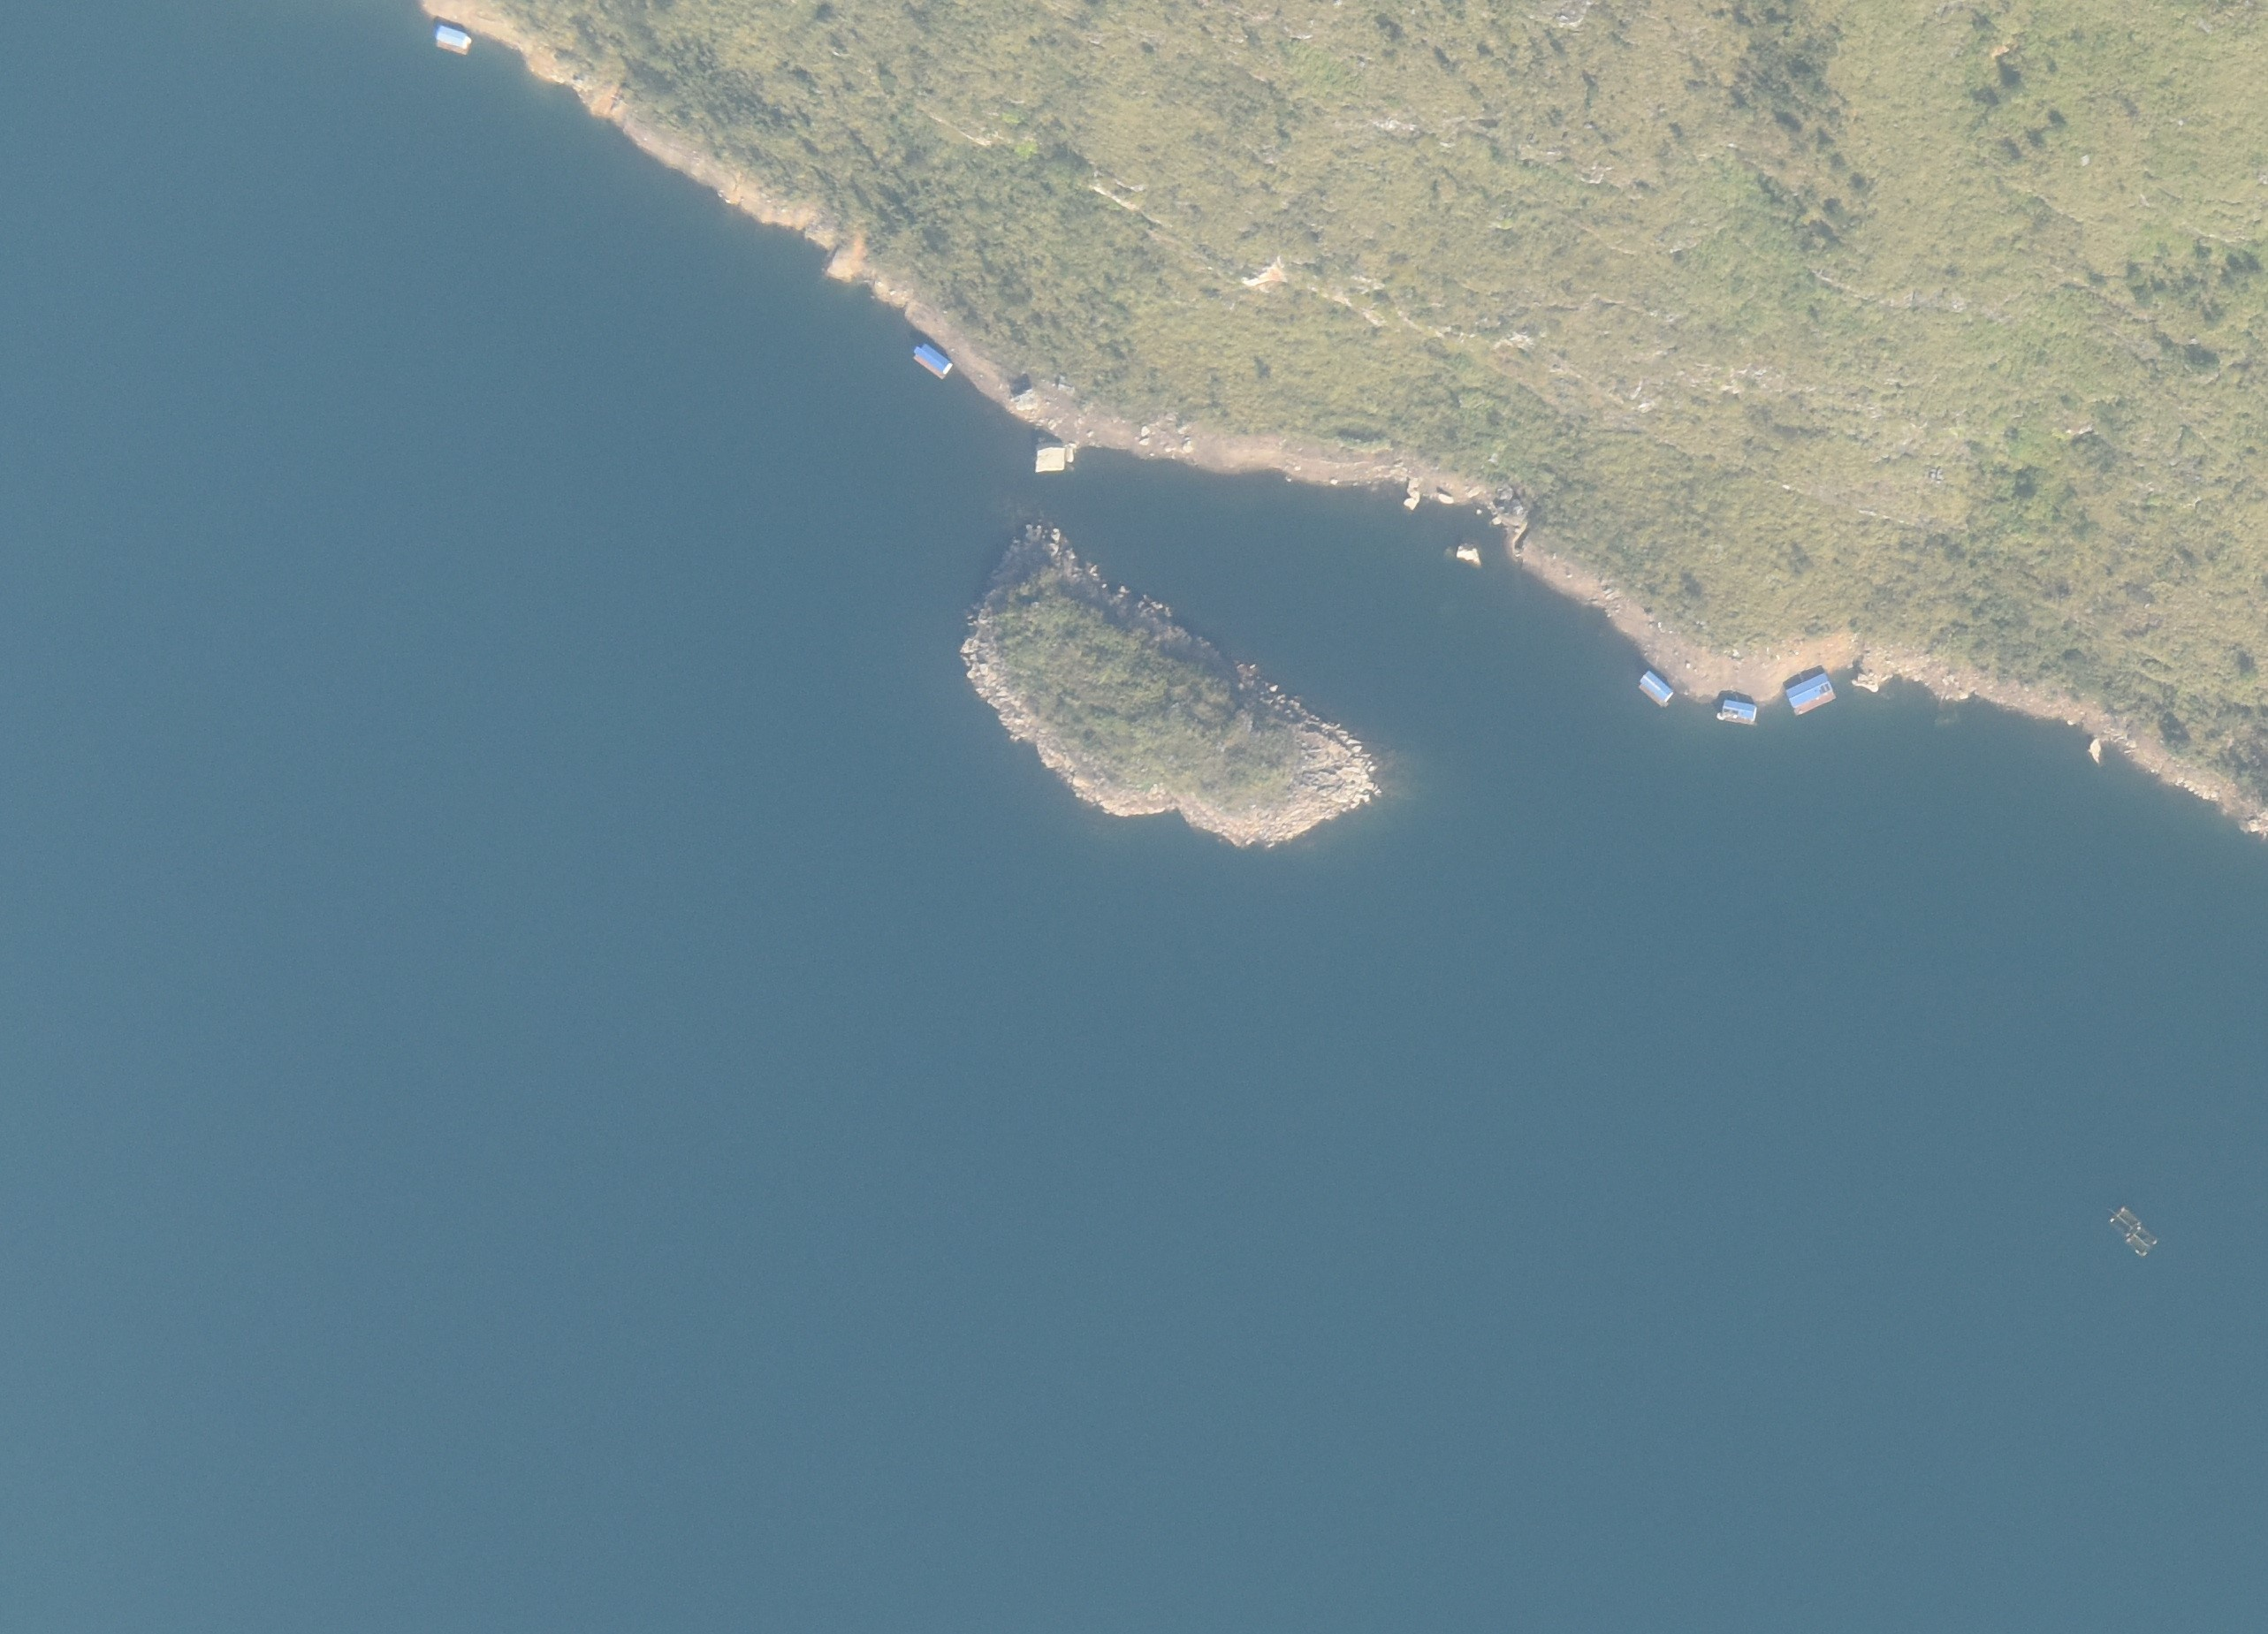cultivation-mesh-cage: (2110, 1206, 2157, 1255)
prefabricated-house: (1786, 671, 1838, 718), (1638, 667, 1676, 711), (916, 342, 953, 373), (1715, 699, 1756, 727), (433, 26, 467, 53)
